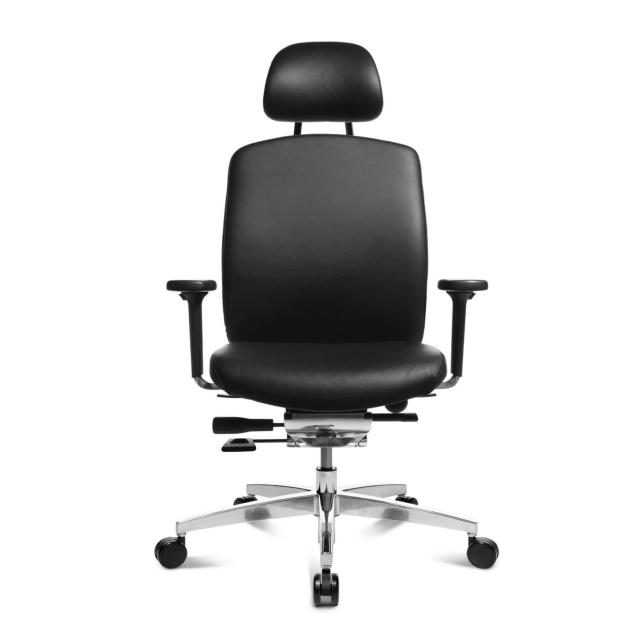chair: (153, 40, 500, 608)
